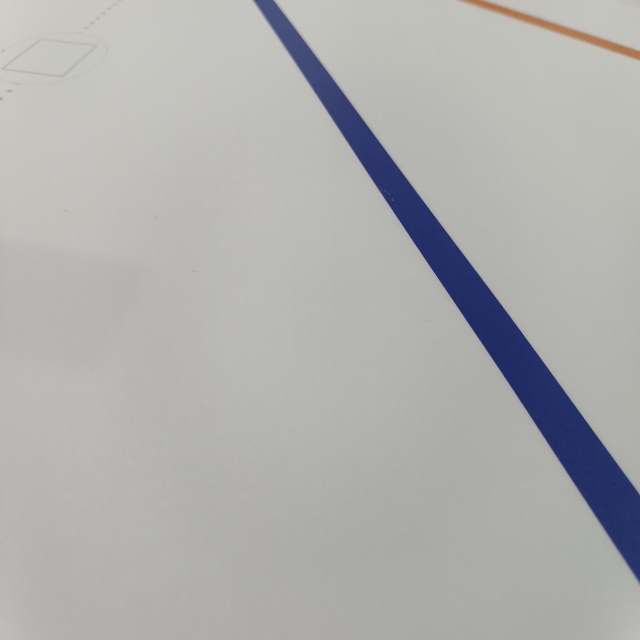blue line: (258, 0, 640, 585)
orange line: (458, 0, 640, 64)
